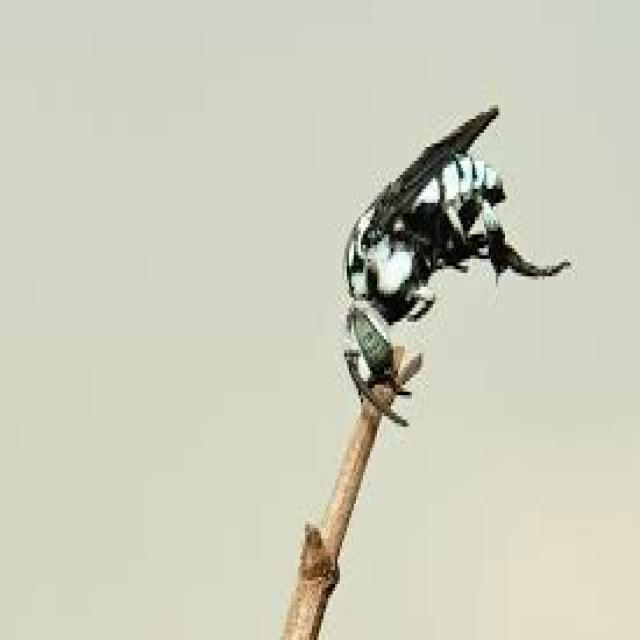Thyreus: (318, 84, 582, 415)
